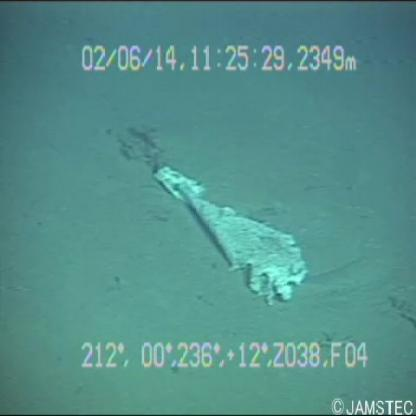Rác: (129, 139, 312, 306)
